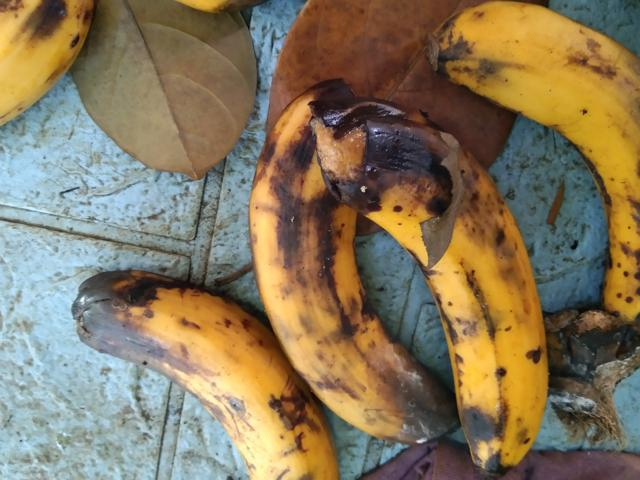overripe: (434, 3, 639, 377)
rotten: (317, 104, 546, 479), (240, 77, 405, 438), (65, 263, 340, 479)
